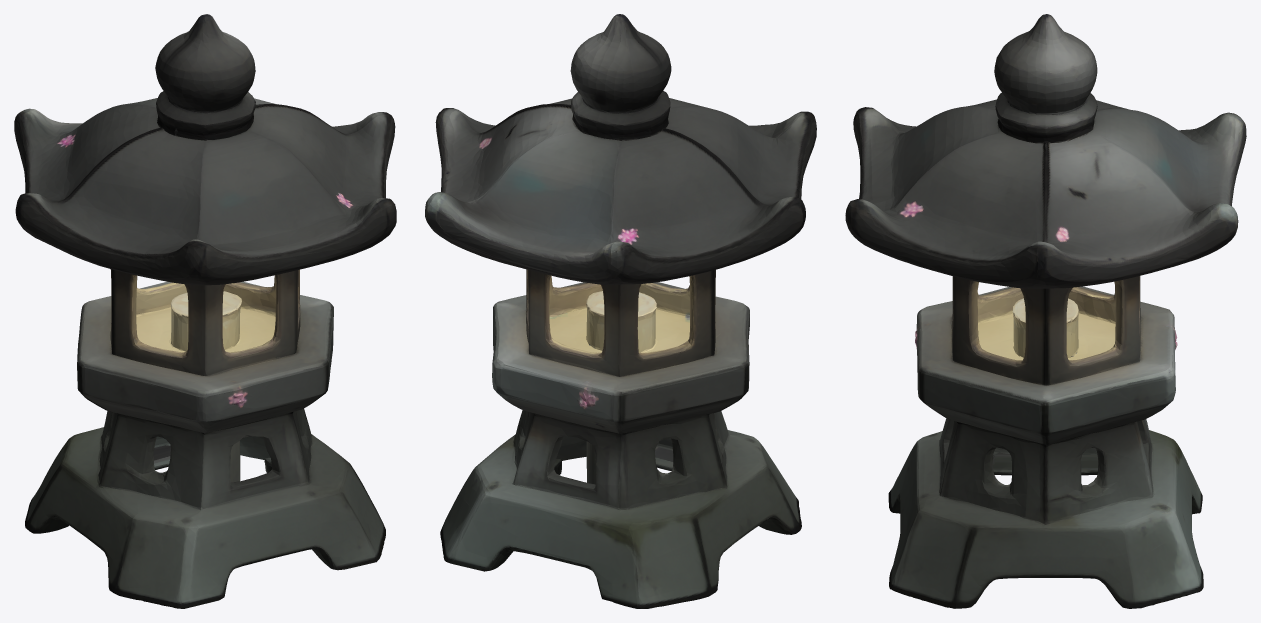
Rendered from lantern.fbx.
The picture shows the model from 3 angles, left to right: view 1: azimuth 30°, elevation 25°; view 2: azimuth 150°, elevation 25°; view 3: azimuth 270°, elevation 25°; orthographic projection. The views are drawn at different scales.
Parts seen in each view (by area): view 1: geometry_0; view 2: geometry_0; view 3: geometry_0.
Boxes of the visible parts, x1=… form: geometry_0: x1=14, y1=14, x2=396, y2=608; geometry_0: x1=425, y1=14, x2=816, y2=608; geometry_0: x1=845, y1=14, x2=1246, y2=608.
Size of the model in its own units: 0.7563 by 1 by 0.6908.
Materials: 1 (1 with a texture image).
